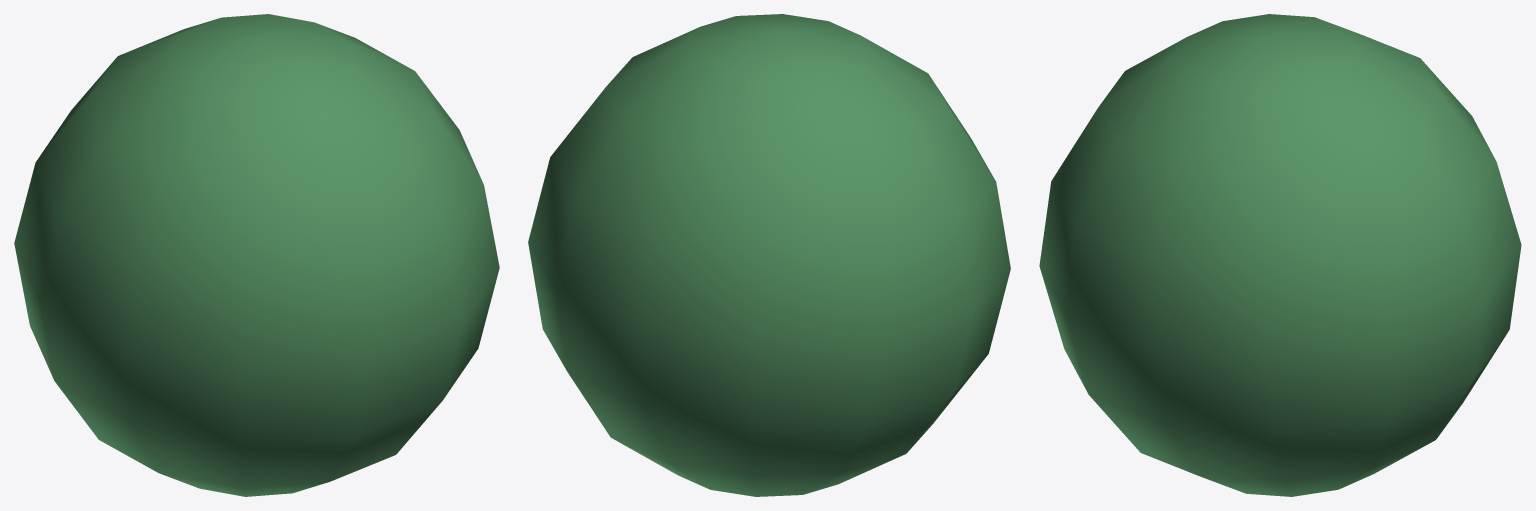
3 views of the same model, side by side, from view 1: azimuth 30°, elevation 25°; view 2: azimuth 150°, elevation 25°; view 3: azimuth 270°, elevation 25° (orthographic).
Parts seen in each view (by area): view 1: 右侧腔隙淋巴结中间组; view 2: 右侧腔隙淋巴结中间组; view 3: 右侧腔隙淋巴结中间组.
Part boxes in pixels (<box>): 右侧腔隙淋巴结中间组: <box>14,14,499,496</box>; 右侧腔隙淋巴结中间组: <box>528,14,1010,496</box>; 右侧腔隙淋巴结中间组: <box>1039,14,1521,496</box>.
Bounding box in the file's own units: 0.00383 × 0.00382 × 0.00382.
